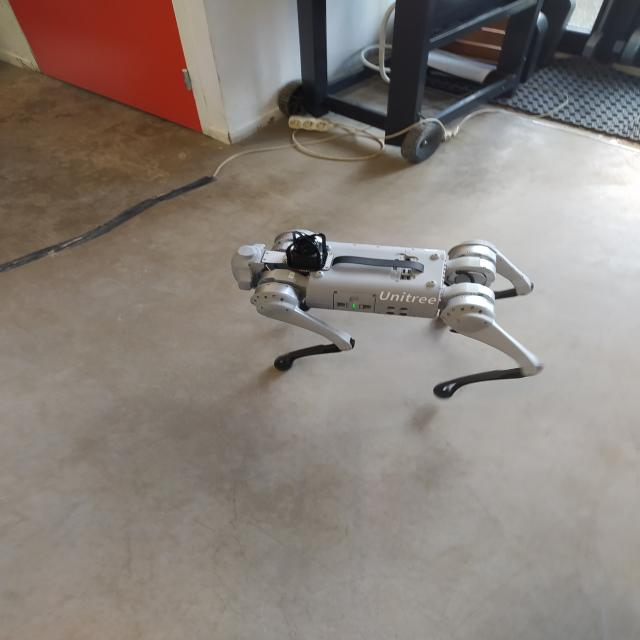unitree-go1-robot: (218, 211, 554, 411)
